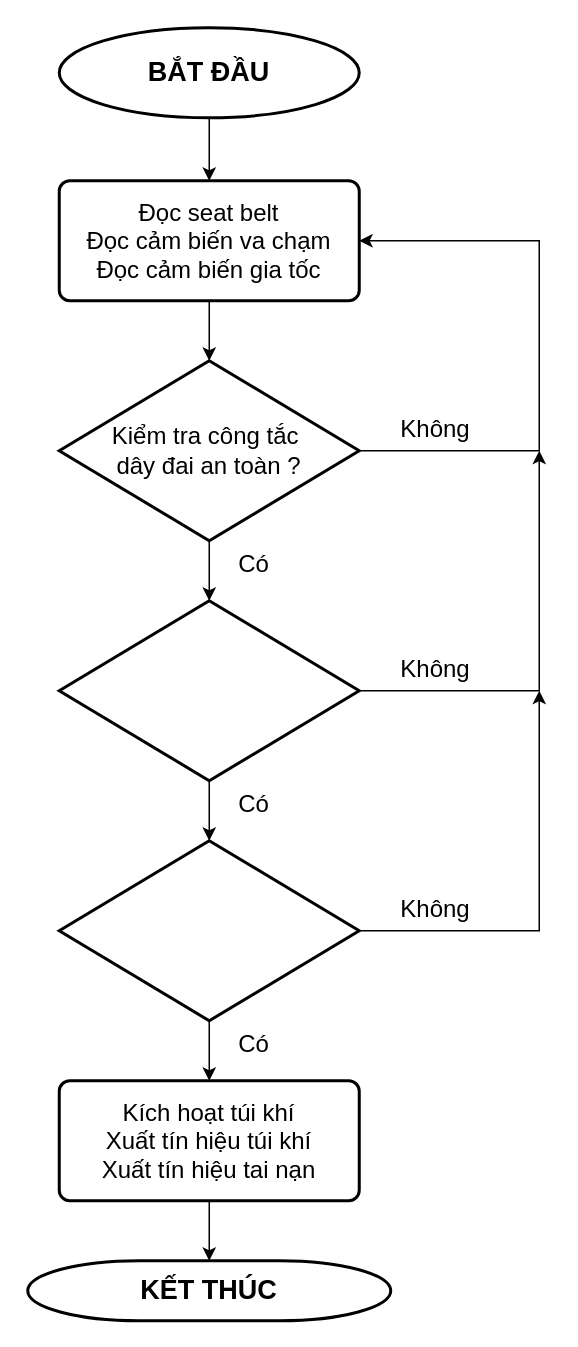
Some shapes in this 578 by 1347 pixel diagram are drawn without their labels. The box of each missing label's shape, as (x1, y1, x2, y2) in pixels:
Kiểm tra giá trị cảm biến gia tốc ?: (57, 598, 360, 782)
Kiểm tra giá trị cảm biến va chạm ?: (57, 838, 360, 1022)
